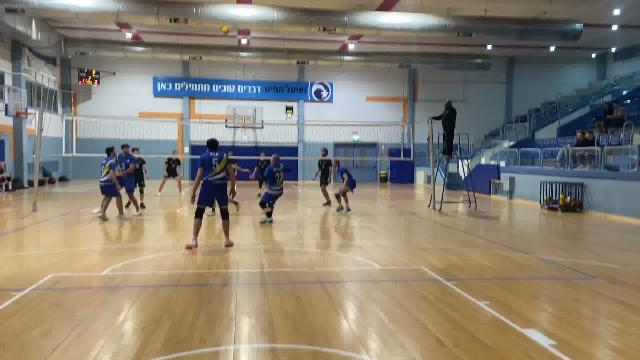ball: (221, 24, 235, 38)
